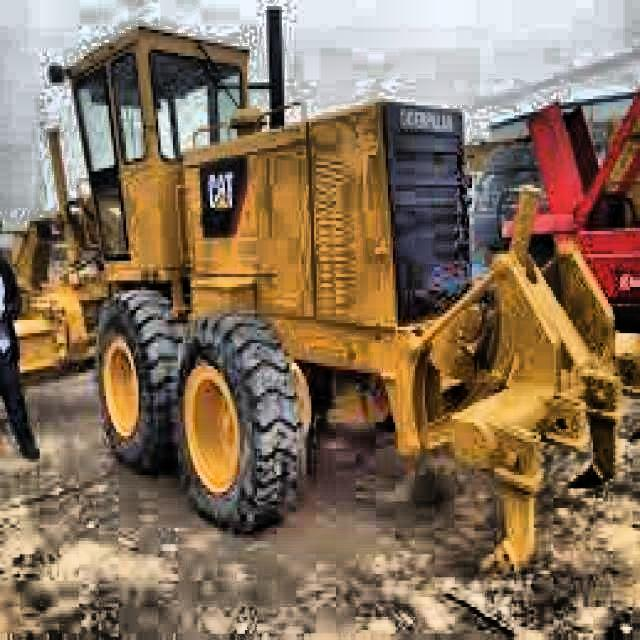bull_dozer/loader/grader: (0, 4, 640, 562), (459, 65, 640, 317), (16, 117, 99, 361)
person: (0, 227, 43, 474)
